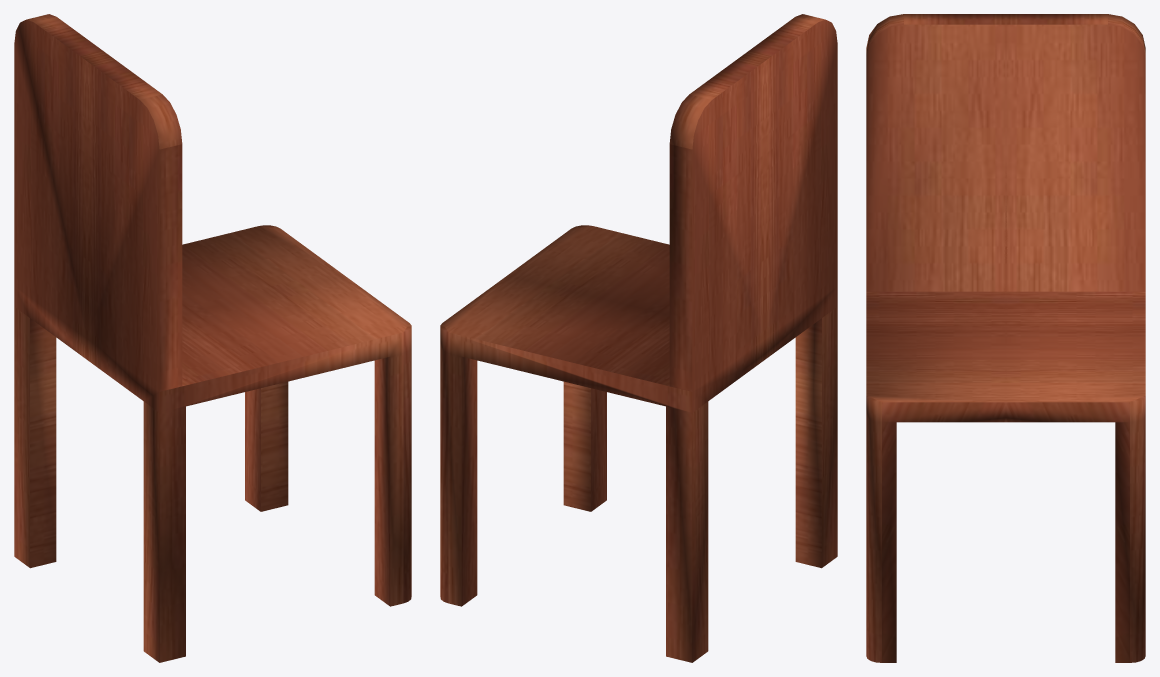
The model's file is BestChair.dae.
The picture shows the model from 3 angles, left to right: view 1: azimuth 30°, elevation 25°; view 2: azimuth 150°, elevation 25°; view 3: azimuth 270°, elevation 25°; orthographic projection. The views are drawn at different scales.
Parts seen in each view (by area): view 1: Cube.001; view 2: Cube.001; view 3: Cube.001.
Part boxes in pixels (x1=…): Cube.001: x1=14, y1=14, x2=411, y2=662; Cube.001: x1=440, y1=14, x2=837, y2=662; Cube.001: x1=866, y1=14, x2=1145, y2=662.
Size of the model in its own units: 78.74 by 76.71 by 160.
1 material, 1 textured.
